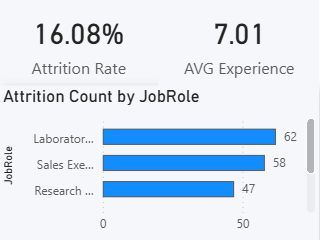

Layout of this report page (visuals, bound fields, positions):
{"tool":"powerbi","page":{"name":"ToolTip","canvas":[320,240],"ordinal":4},"visuals":[{"type":"card","fields":{"Values":["Dim_Education.Attrition Rate"]},"box":[0,0,160,85],"z":0},{"type":"barChart","fields":{"Category":["Dim_Job.JobRole"],"Y":["Dim_Education.Attrition Count"]},"box":[0,85,320,155],"z":1000},{"type":"card","fields":{"Values":["Dim_Education.AVG Experience"]},"box":[160,0,160,85],"z":2000}]}

Visuals, with their boxes in screenshot pixels (x1, y1, x2, y2), scaled from the page's 320x240 canvas onto the 320x240 screenshot:
card - Dim_Education.Attrition Rate: <box>0,0,160,85</box>
barChart - Dim_Job.JobRole x Dim_Education.Attrition Count: <box>0,85,319,239</box>
card - Dim_Education.AVG Experience: <box>160,0,319,85</box>
